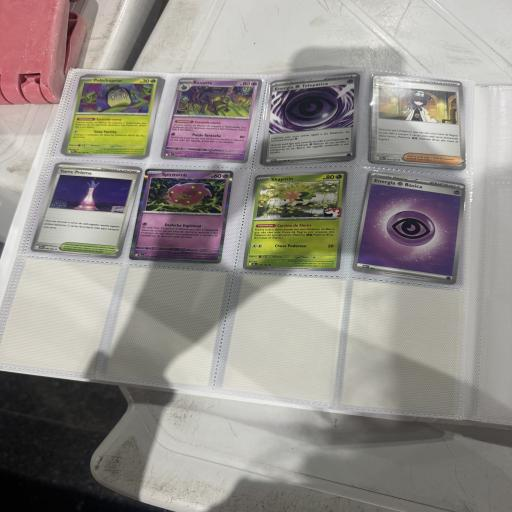card: (353, 170, 469, 285), (30, 158, 143, 260), (243, 169, 348, 272), (127, 165, 233, 265), (367, 74, 471, 169), (259, 71, 361, 167), (159, 74, 263, 164), (62, 74, 162, 158)
